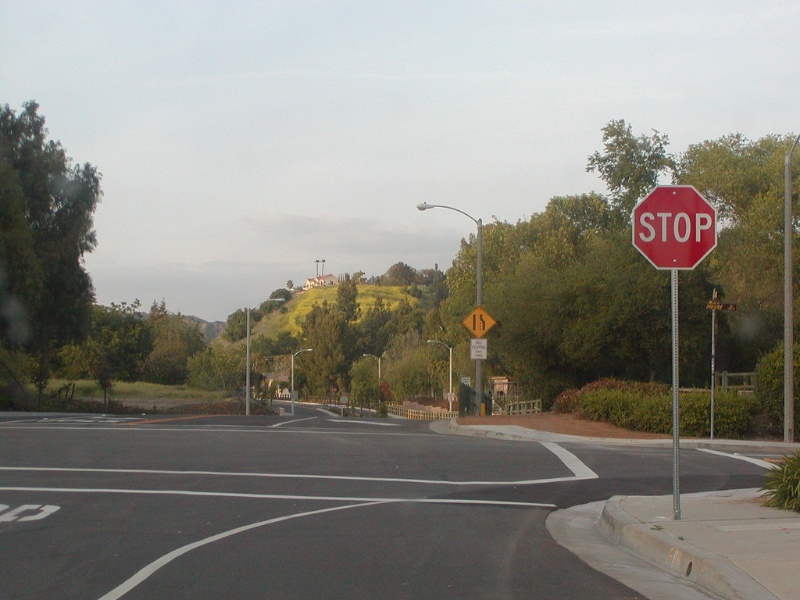stop sign: (627, 183, 720, 271)
